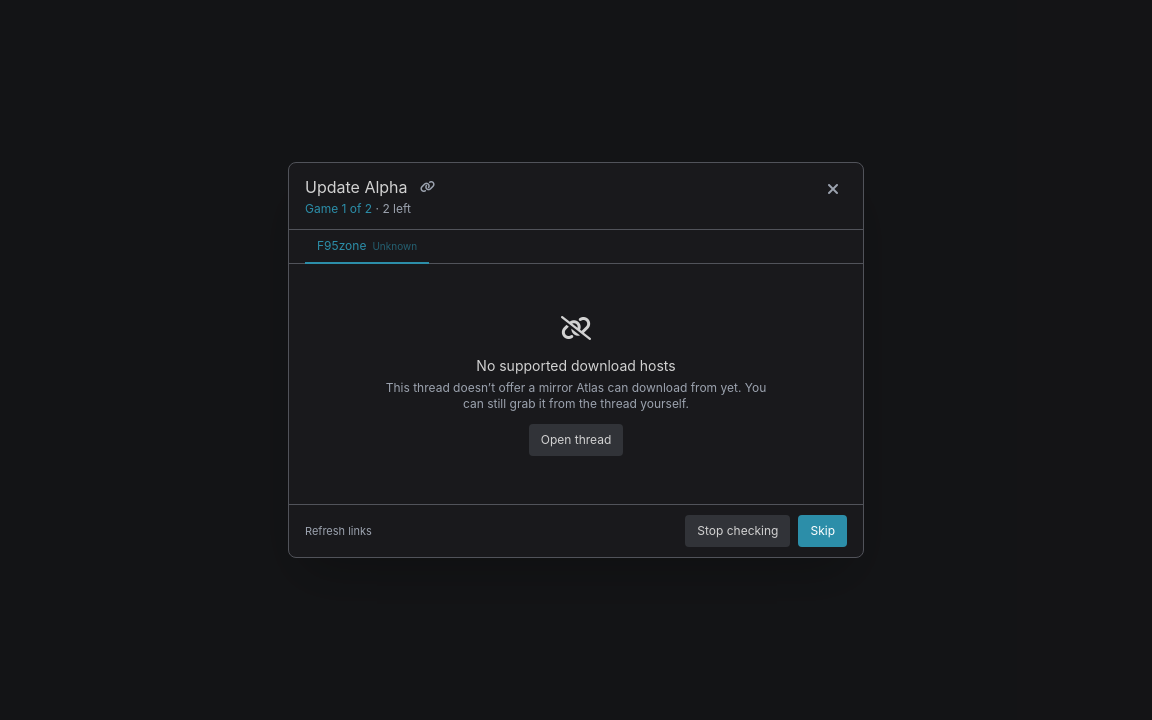
Test: Skip advances to the next game without queueing a download
Expected: the heading "Update Alpha" is shown, [305,175,408,199]
Click the button "Skip" at (823, 531), box [798,515,847,547]
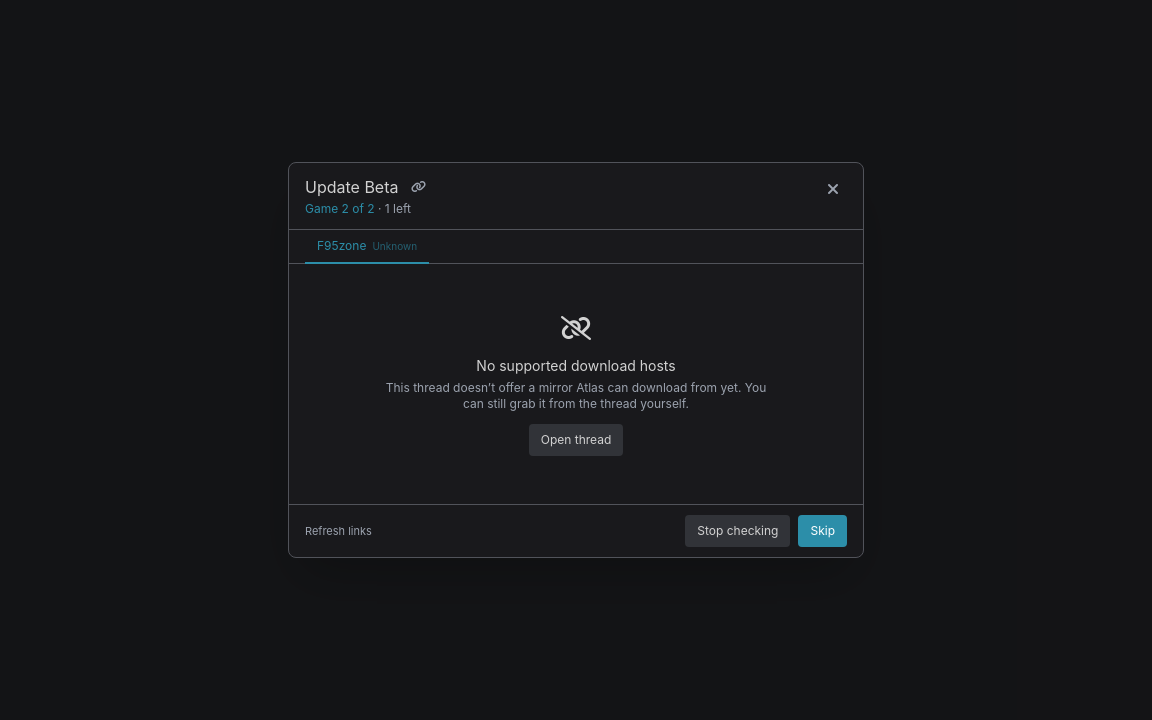
Expected: the heading "Update Beta" is shown, [305,175,398,199]
Expected: the text "Game 2 of 2 · 1 left" is shown, [305,201,411,216]
Expected: the text "· 1 left" is shown, [375,201,411,216]
